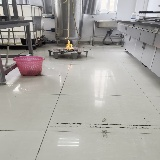fire: (65, 37, 73, 50)
